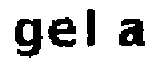a: (116, 16, 148, 53)
e: (50, 15, 78, 49)
g: (13, 13, 44, 60)
l: (83, 5, 104, 50)
